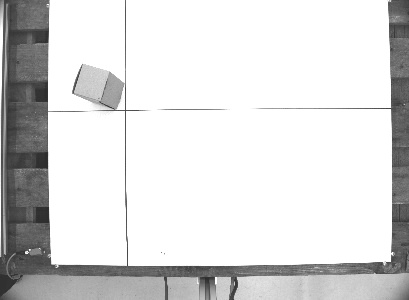b2: (71, 62, 128, 112)
